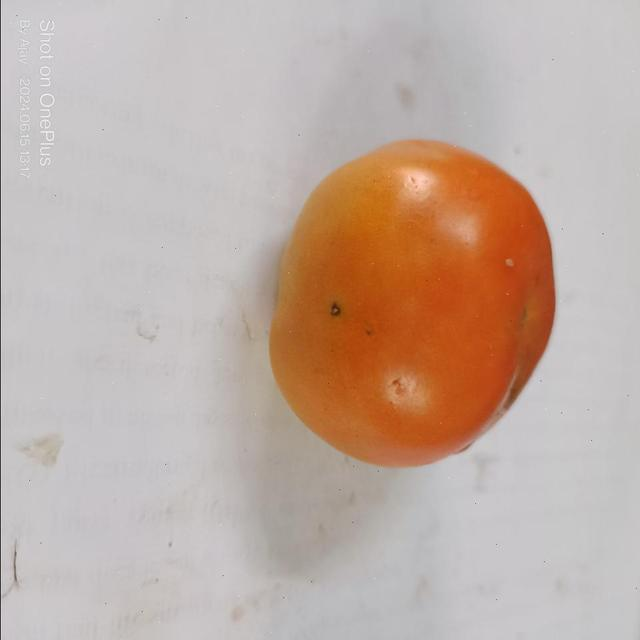Bacterial Spot Fruit: (219, 199, 230, 216)
